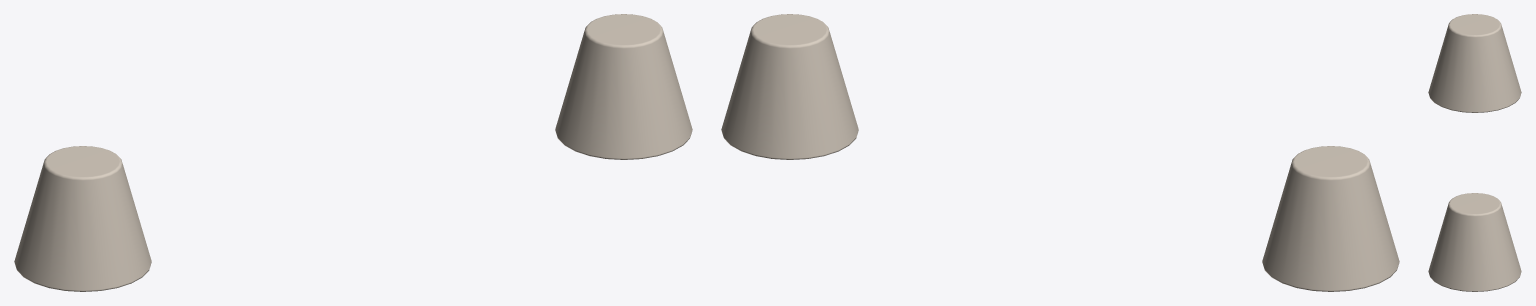
Rendered from turbochargers.glb.
3 views of the same model, side by side, from view 1: azimuth 30°, elevation 25°; view 2: azimuth 150°, elevation 25°; view 3: azimuth 270°, elevation 25° (orthographic). The views are drawn at different scales.
Visible parts, largest first — view 1: GEO_Turbochargers; view 2: GEO_Turbochargers; view 3: GEO_Turbochargers.
Part boxes in pixels (bbox=[...]): GEO_Turbochargers: bbox=[14, 14, 692, 291]; GEO_Turbochargers: bbox=[721, 14, 1399, 291]; GEO_Turbochargers: bbox=[1428, 14, 1521, 291].
Bounding box in the file's own units: 0.8784 × 0.13 × 0.1584.
